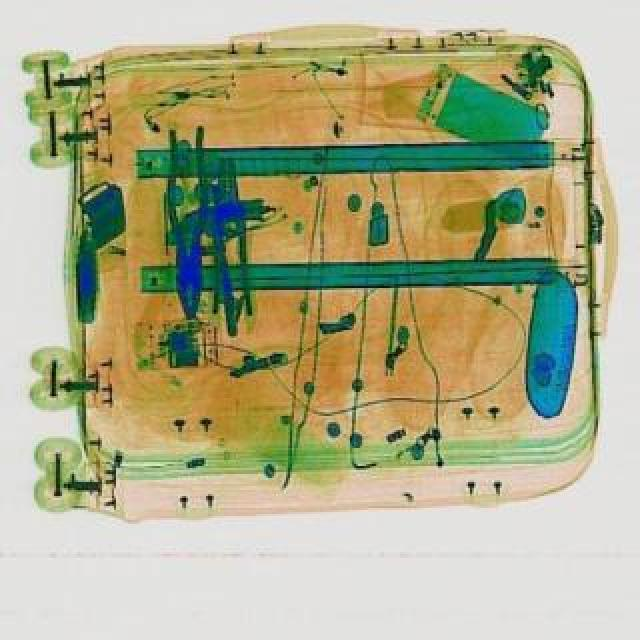wrench: (164, 128, 216, 322), (210, 158, 254, 320)
